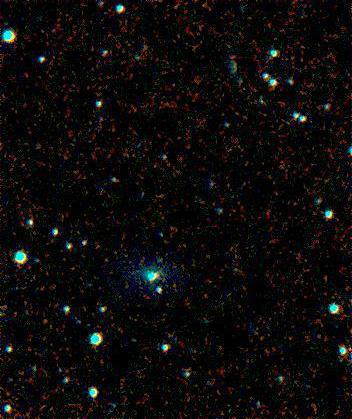star: (143, 261, 173, 291)
